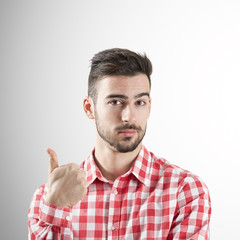young: (76, 40, 164, 153)
